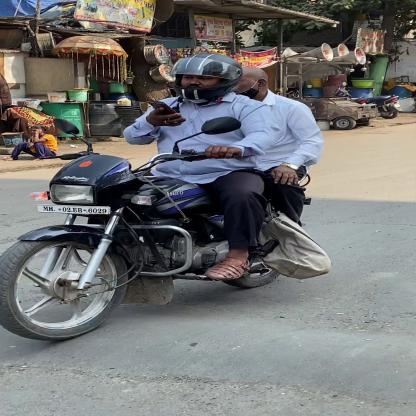license: (36, 204, 111, 216)
